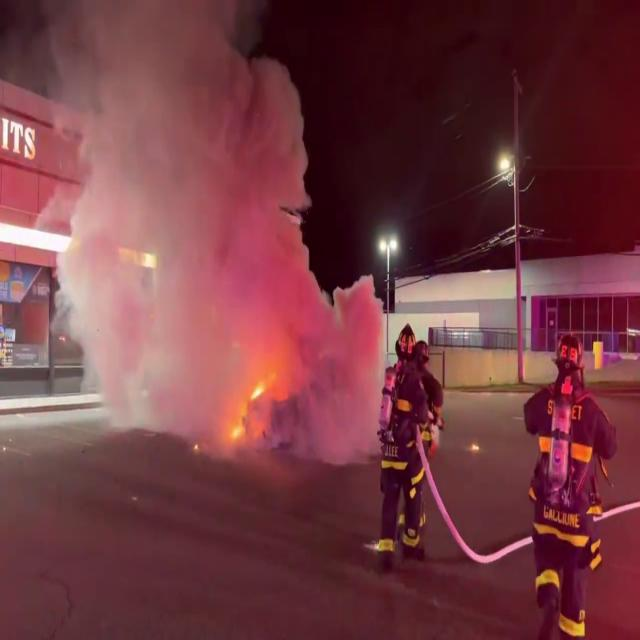Fire: (226, 349, 278, 447)
Smoke: (66, 0, 333, 447)
